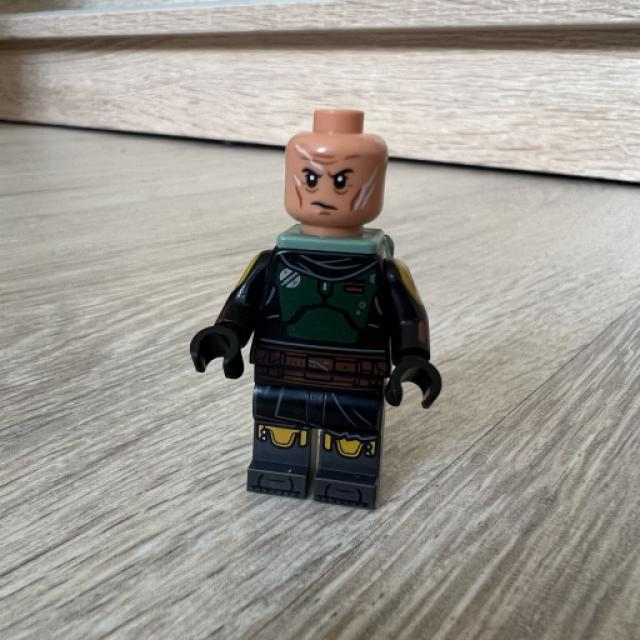Lego-Minifigures: (163, 89, 474, 531)
